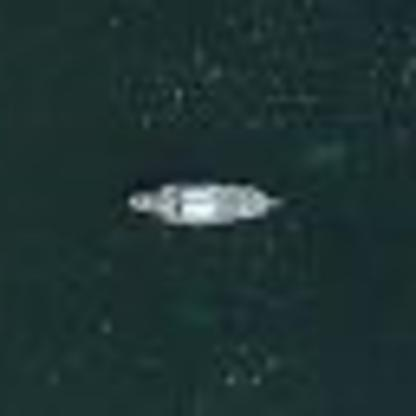ship: (110, 171, 300, 233)
